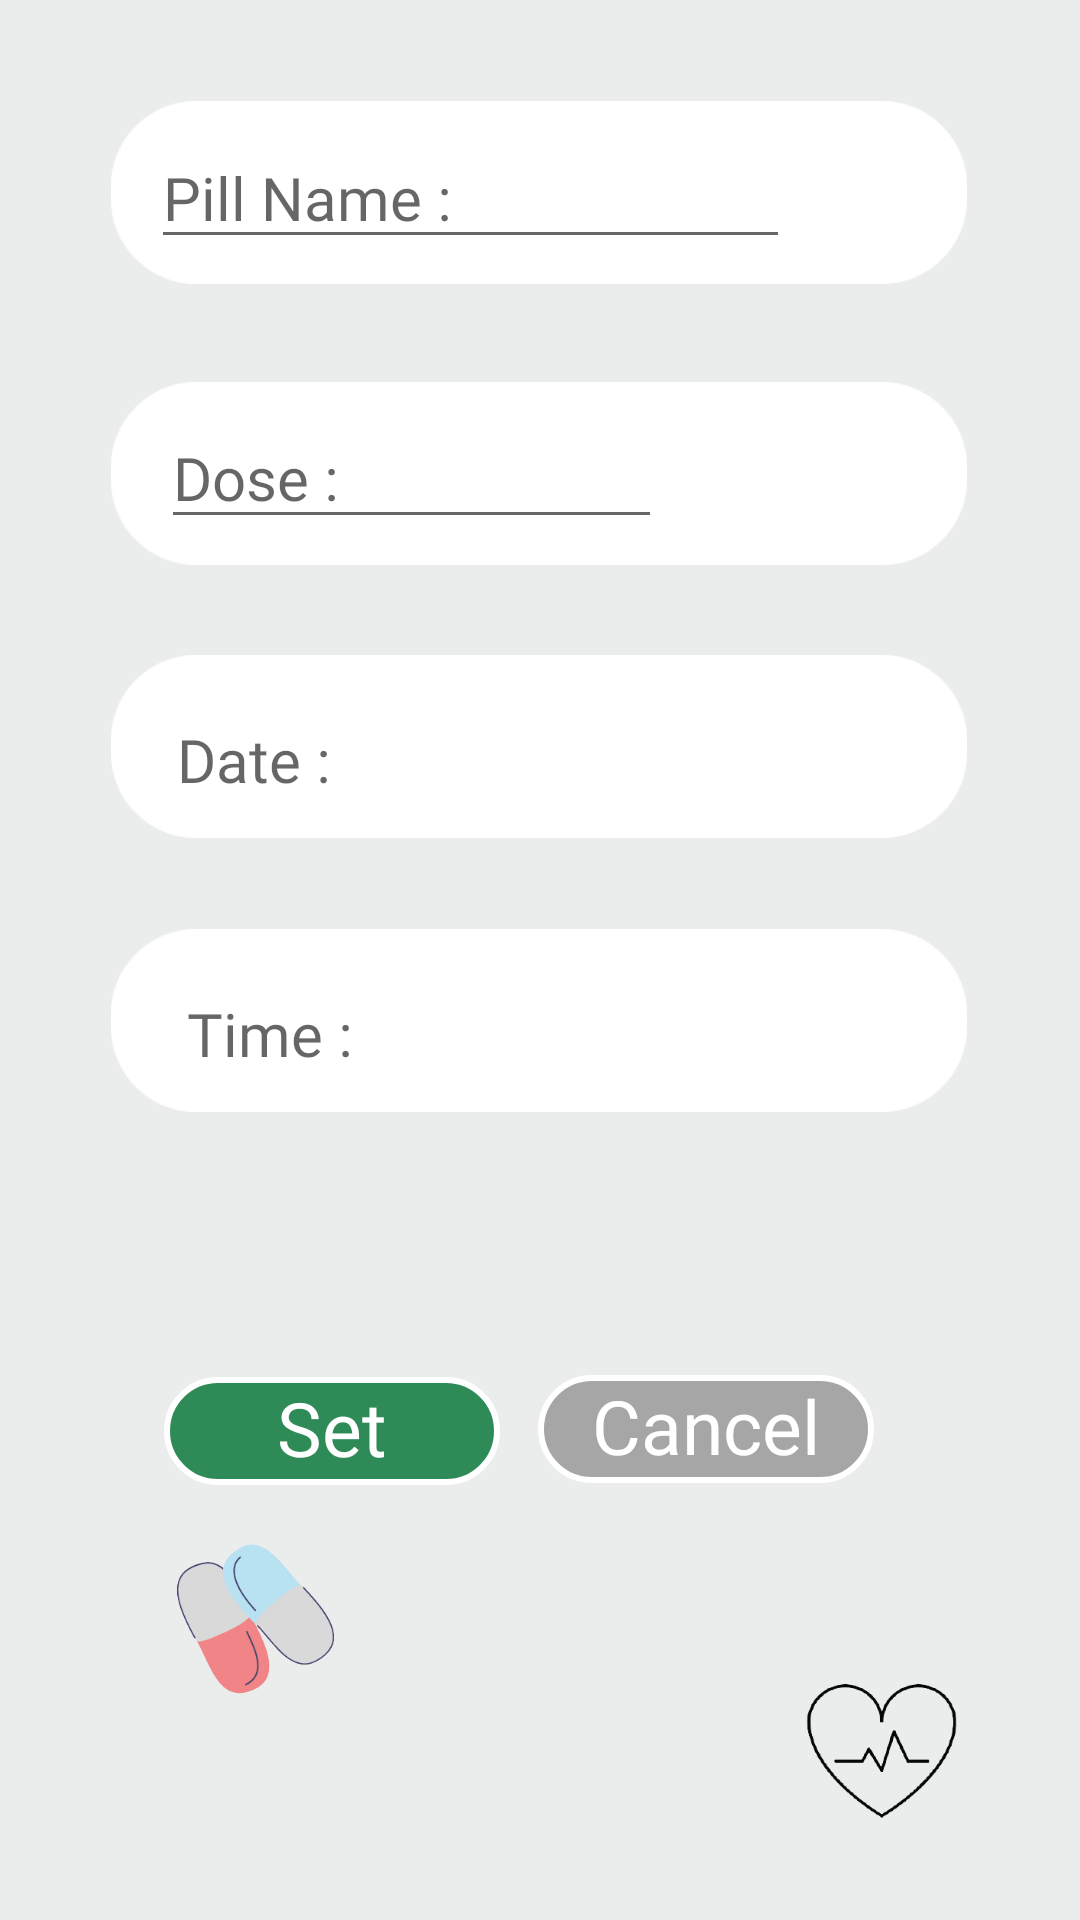

Named icons in this screenshot (1080w x 1920h) and their centers, (x,y):
capsuleing: (255,1619)
healtheart: (882,1751)
